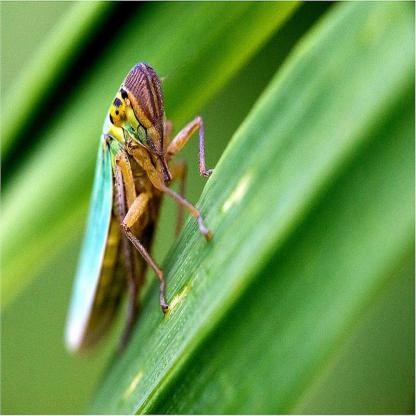Green-Leafhopper: (62, 59, 223, 358)
